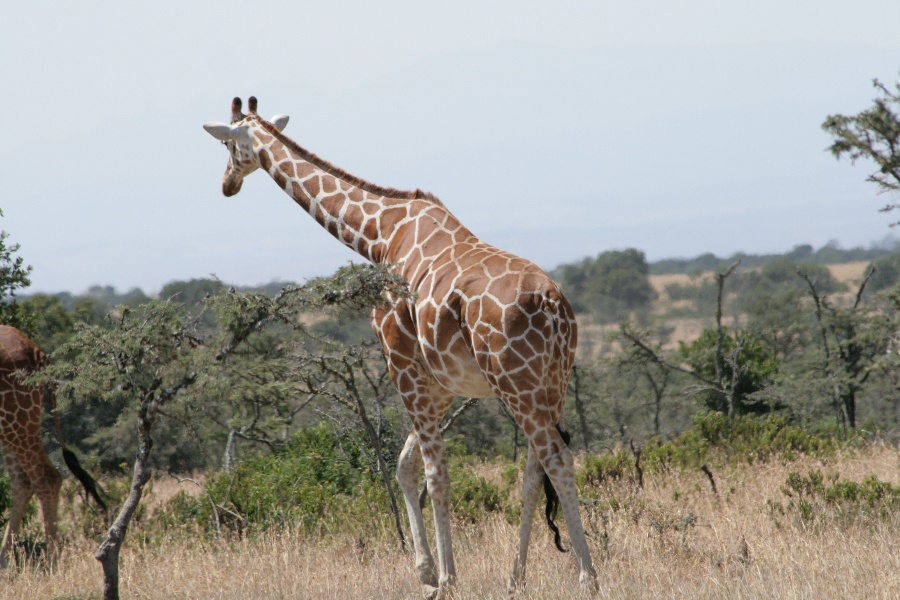giraffe: (200, 87, 614, 595), (0, 311, 87, 599)
